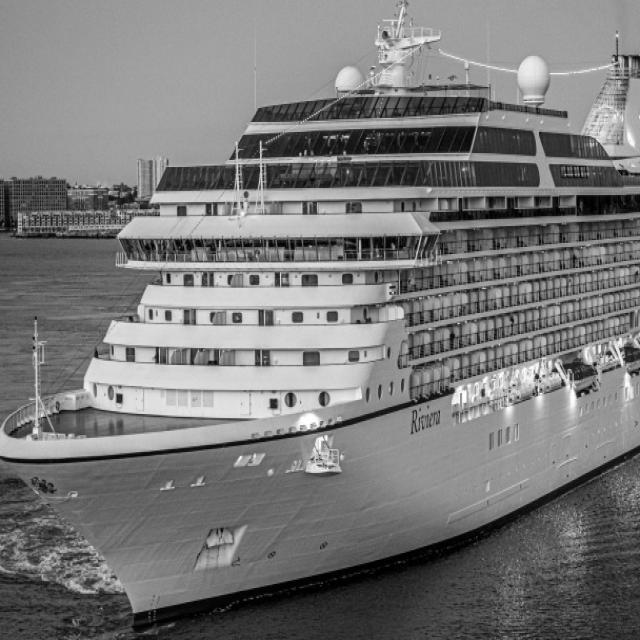cruises: (1, 1, 640, 640)
